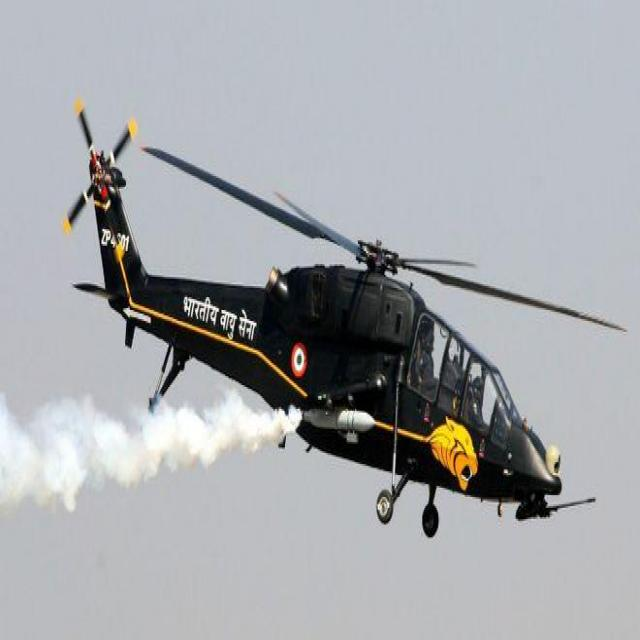MIL_HELO: (51, 94, 640, 569)
